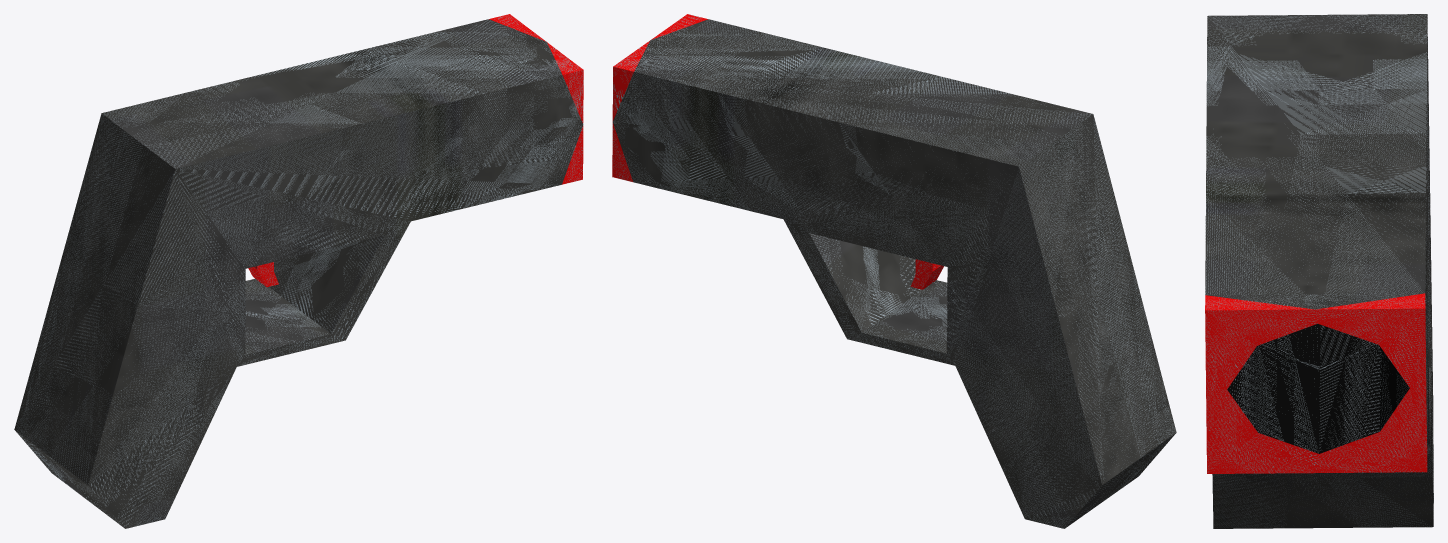
The model's file is gun.dae.
The picture shows the model from 3 angles, left to right: view 1: azimuth 30°, elevation 25°; view 2: azimuth 150°, elevation 25°; view 3: azimuth 270°, elevation 25°; orthographic projection. The views are drawn at different scales.
Visible parts, largest first — view 1: gun (×3); view 2: gun (×4); view 3: gun (×4).
Part boxes in pixels (left/top/right/bottom): gun (×3): left=14, top=14, right=583, bottom=528; gun (×4): left=612, top=14, right=1176, bottom=528; gun (×4): left=1205, top=14, right=1433, bottom=528.
Bounding box in the file's own units: 89.69 × 24.28 × 61.08.
Materials: 4 (1 with a texture image).
